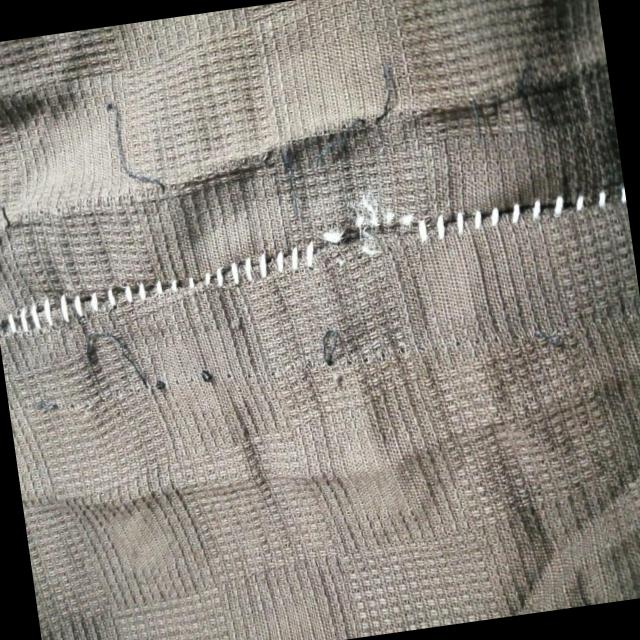gray stitch: (0, 225, 359, 344), (361, 170, 628, 253)
